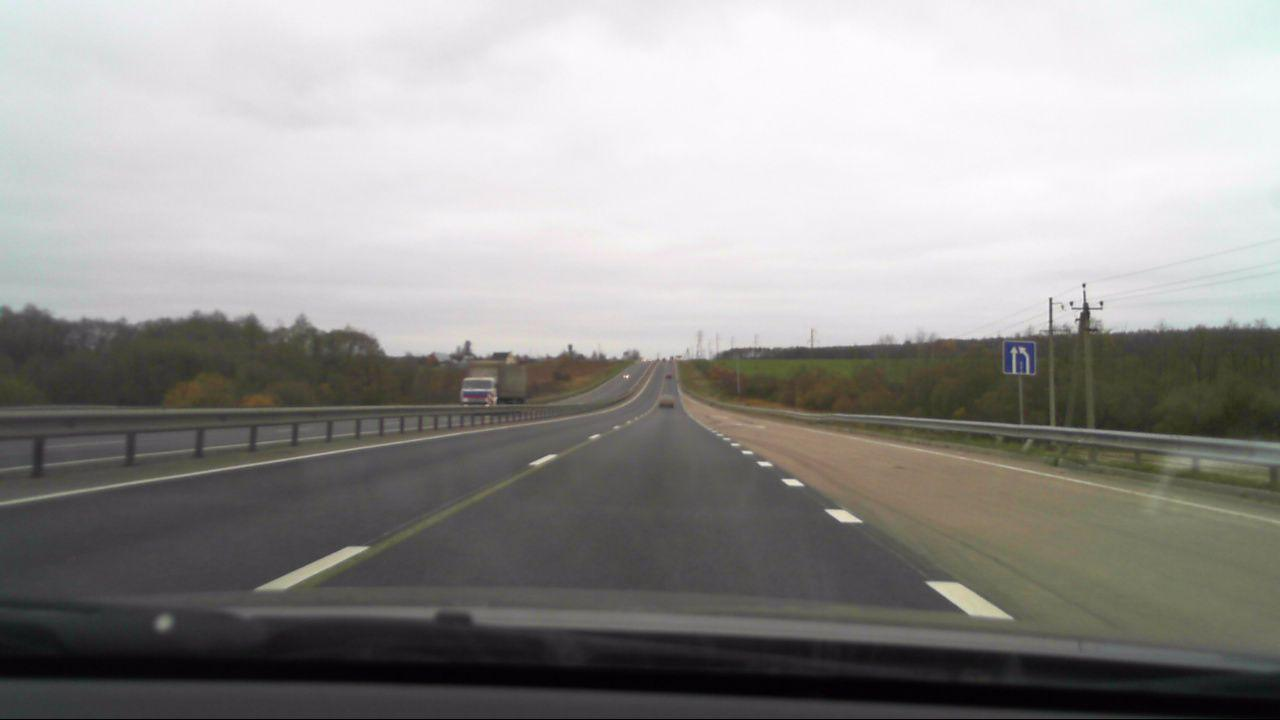5_15_5: (1001, 342, 1035, 375)
